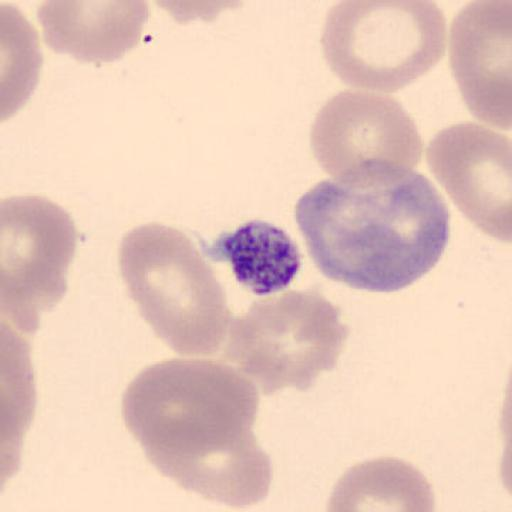Platelet: (218, 216, 306, 296)
RBC: (119, 357, 271, 506), (291, 155, 451, 294), (116, 220, 231, 358), (211, 286, 349, 396), (120, 356, 261, 463), (145, 408, 275, 509), (309, 88, 425, 197), (319, 0, 448, 95), (425, 118, 512, 242), (2, 194, 78, 318), (448, 0, 512, 128), (36, 0, 152, 68), (323, 454, 438, 512), (0, 323, 38, 491), (1, 4, 43, 123), (147, 0, 257, 24)
